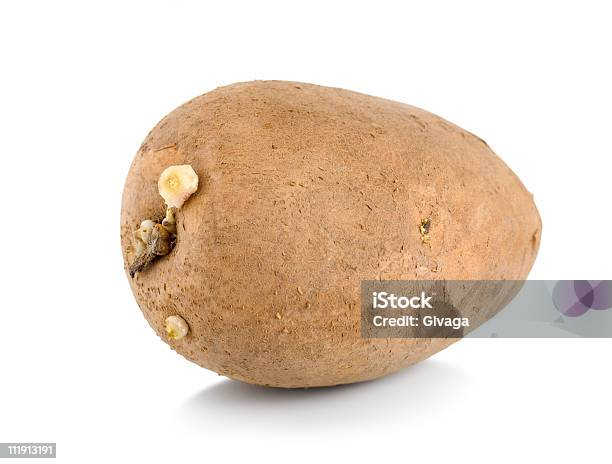potato rotten: (106, 69, 549, 392)
